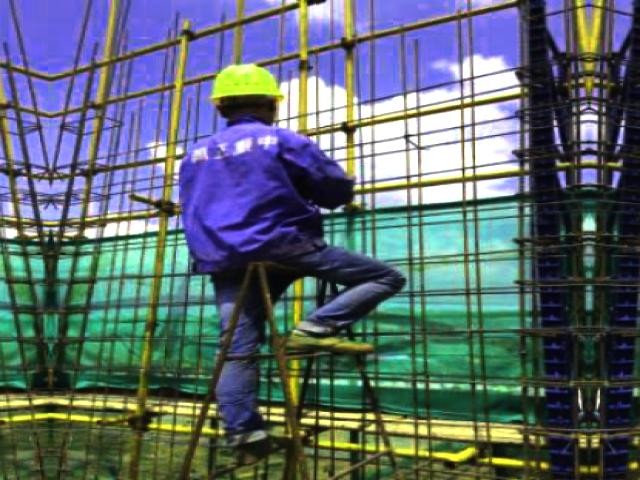Helmet: (206, 57, 292, 115)
